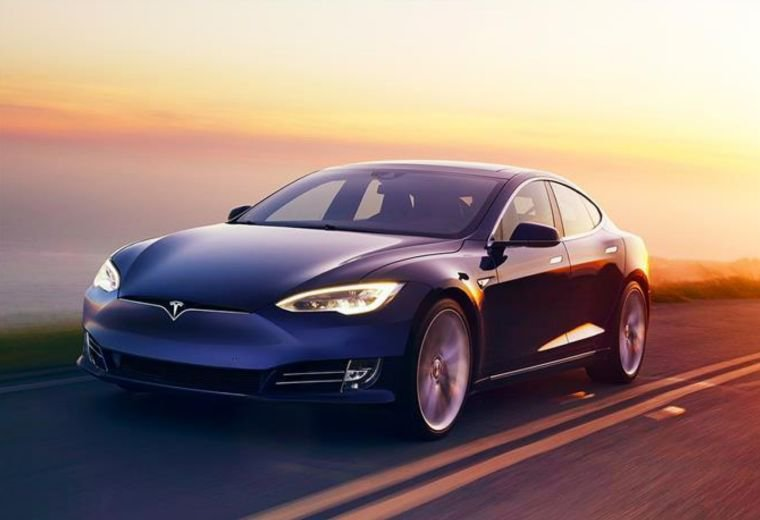car: (81, 155, 657, 429)
